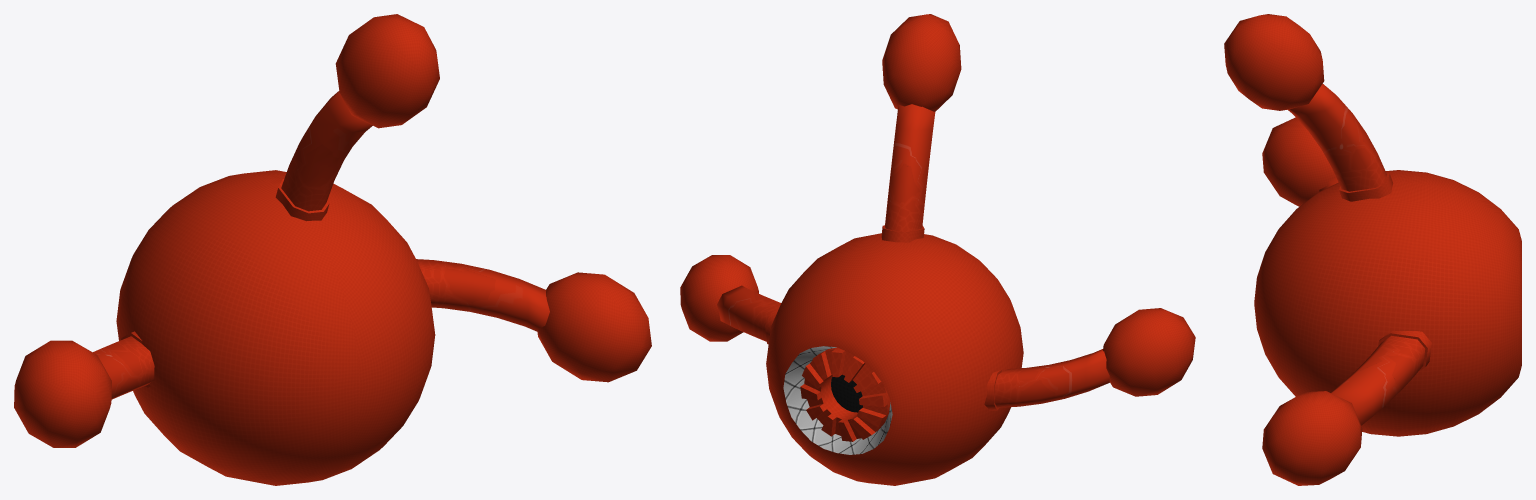
The model's file is enemy_sphere.fbx.
The picture shows the model from 3 angles, left to right: view 1: azimuth 30°, elevation 25°; view 2: azimuth 150°, elevation 25°; view 3: azimuth 270°, elevation 25°; orthographic projection. The views are drawn at different scales.
Visible parts, largest first — view 1: Enemy_sphere_ACT, Antenna.001, Antenna, Antenna.002; view 2: Enemy_sphere_ACT, Antenna, Antenna.002, Antenna.001; view 3: Enemy_sphere_ACT, Antenna, Antenna.001, Antenna.002.
Boxes of the visible parts, x1=… form: Enemy_sphere_ACT: x1=116, y1=170, x2=435, y2=485; Antenna.001: x1=416, y1=259, x2=651, y2=382; Antenna: x1=275, y1=14, x2=439, y2=221; Antenna.002: x1=14, y1=331, x2=154, y2=447; Enemy_sphere_ACT: x1=766, y1=233, x2=1023, y2=485; Antenna: x1=881, y1=14, x2=961, y2=242; Antenna.002: x1=984, y1=308, x2=1195, y2=410; Antenna.001: x1=680, y1=255, x2=781, y2=344; Enemy_sphere_ACT: x1=1254, y1=170, x2=1521, y2=436; Antenna: x1=1224, y1=14, x2=1392, y2=201; Antenna.001: x1=1262, y1=330, x2=1431, y2=485; Antenna.002: x1=1262, y1=117, x2=1338, y2=206.
Bounding box in the file's own units: 57.56 × 43.95 × 27.8.
4 materials, 4 textured.
